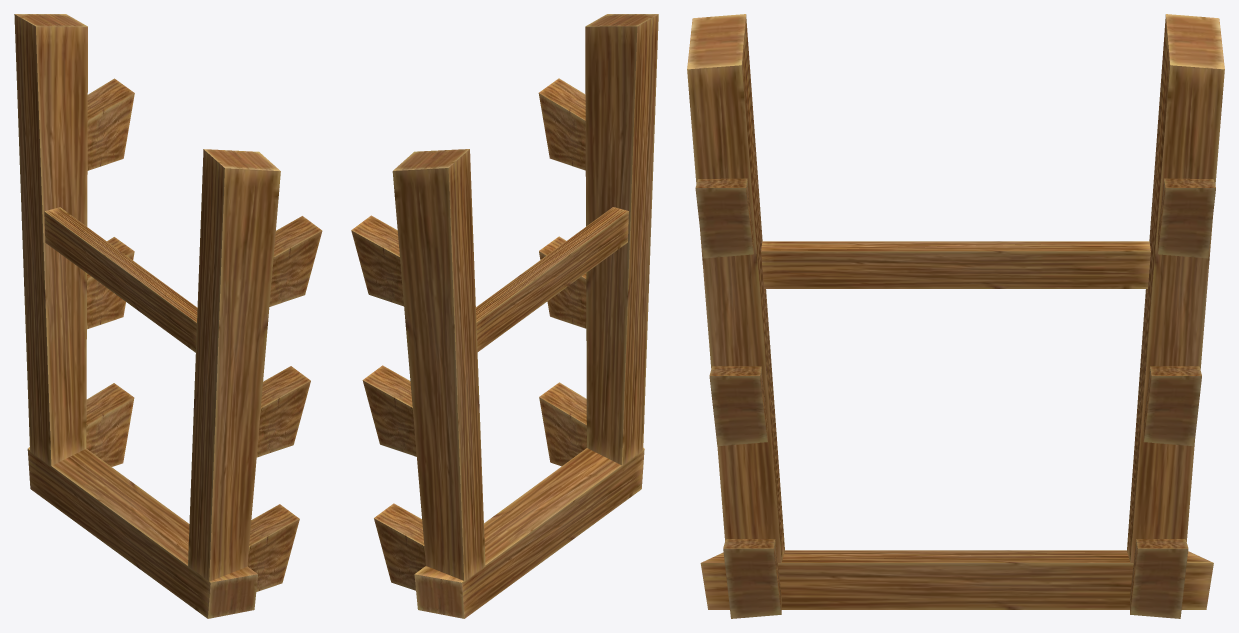
3 renders of one model, left to right at view 1: azimuth 30°, elevation 25°; view 2: azimuth 150°, elevation 25°; view 3: azimuth 270°, elevation 25°, orthographic. The views are drawn at different scales.
Size of the model in its own units: 0.3414 by 1.54 by 1.28.
Materials: 1 (1 with a texture image).
